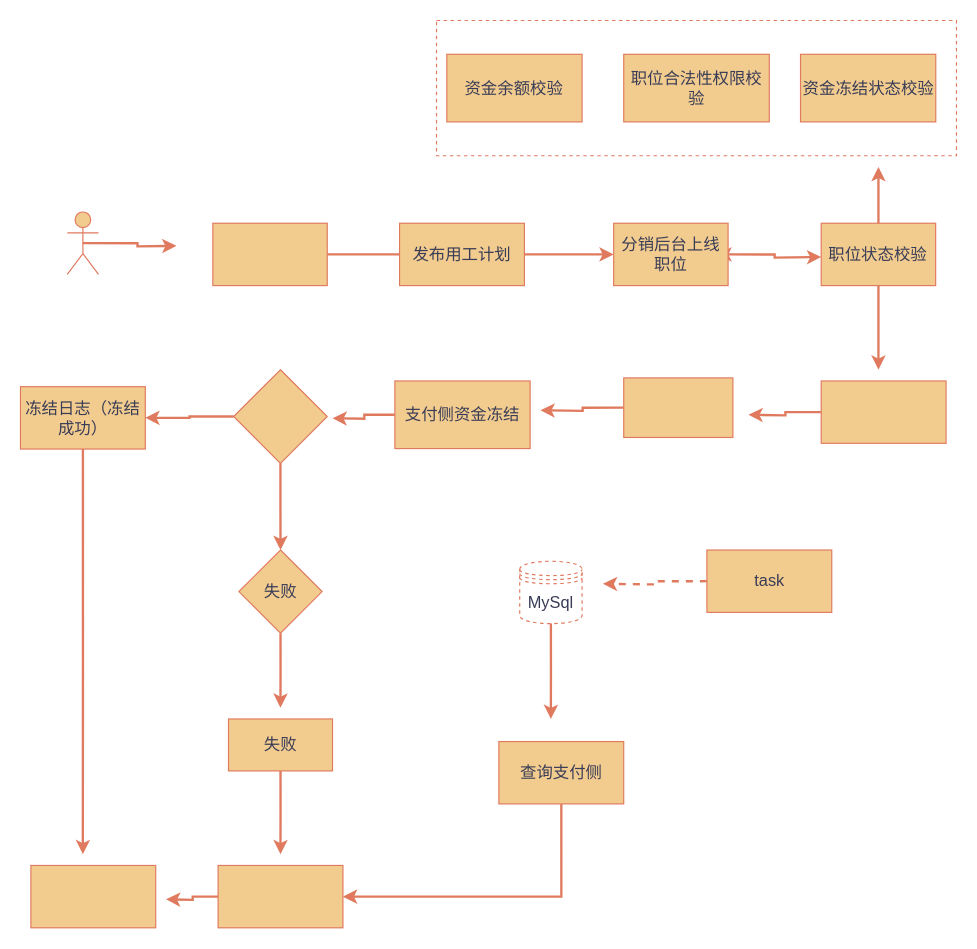
Image size: 977x949. Some labels were removed from this diagram. The shapes that lost their labels are listed below. From the top down, each one's box as (x1, y1, x2, y2) in pixels, then its label:
(66, 211, 99, 274): 用工方
(212, 222, 327, 286): 职位创建
(232, 369, 327, 463): 成功
(623, 377, 733, 437): 写入冻结日志 （冻结中）
(820, 380, 946, 443): 计算冻结金额
(30, 864, 156, 928): 更新职位状态
(217, 864, 343, 928): 冻结日志（冻结、解冻中）
